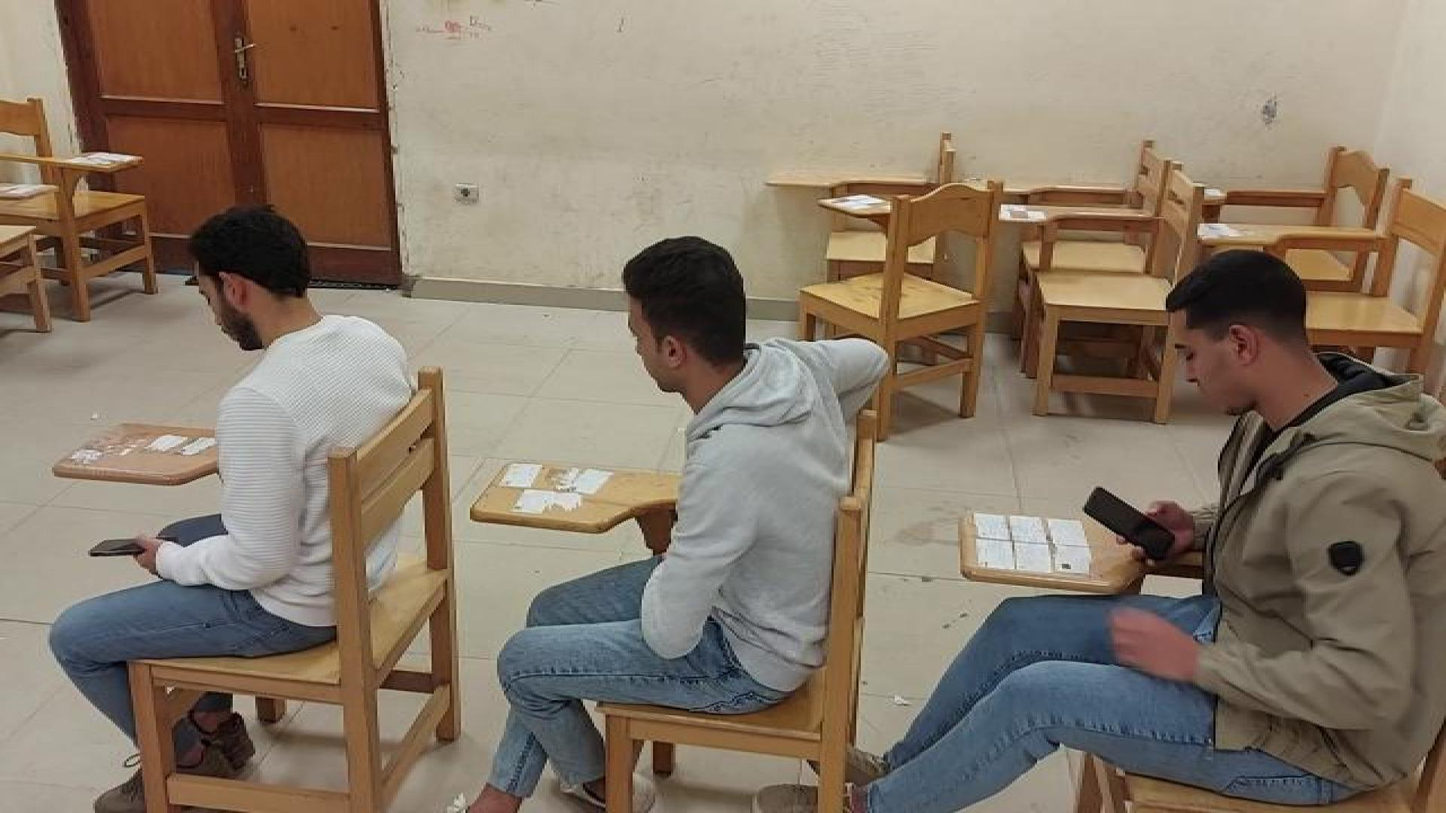phone: (1074, 482, 1176, 569), (87, 537, 184, 570)
